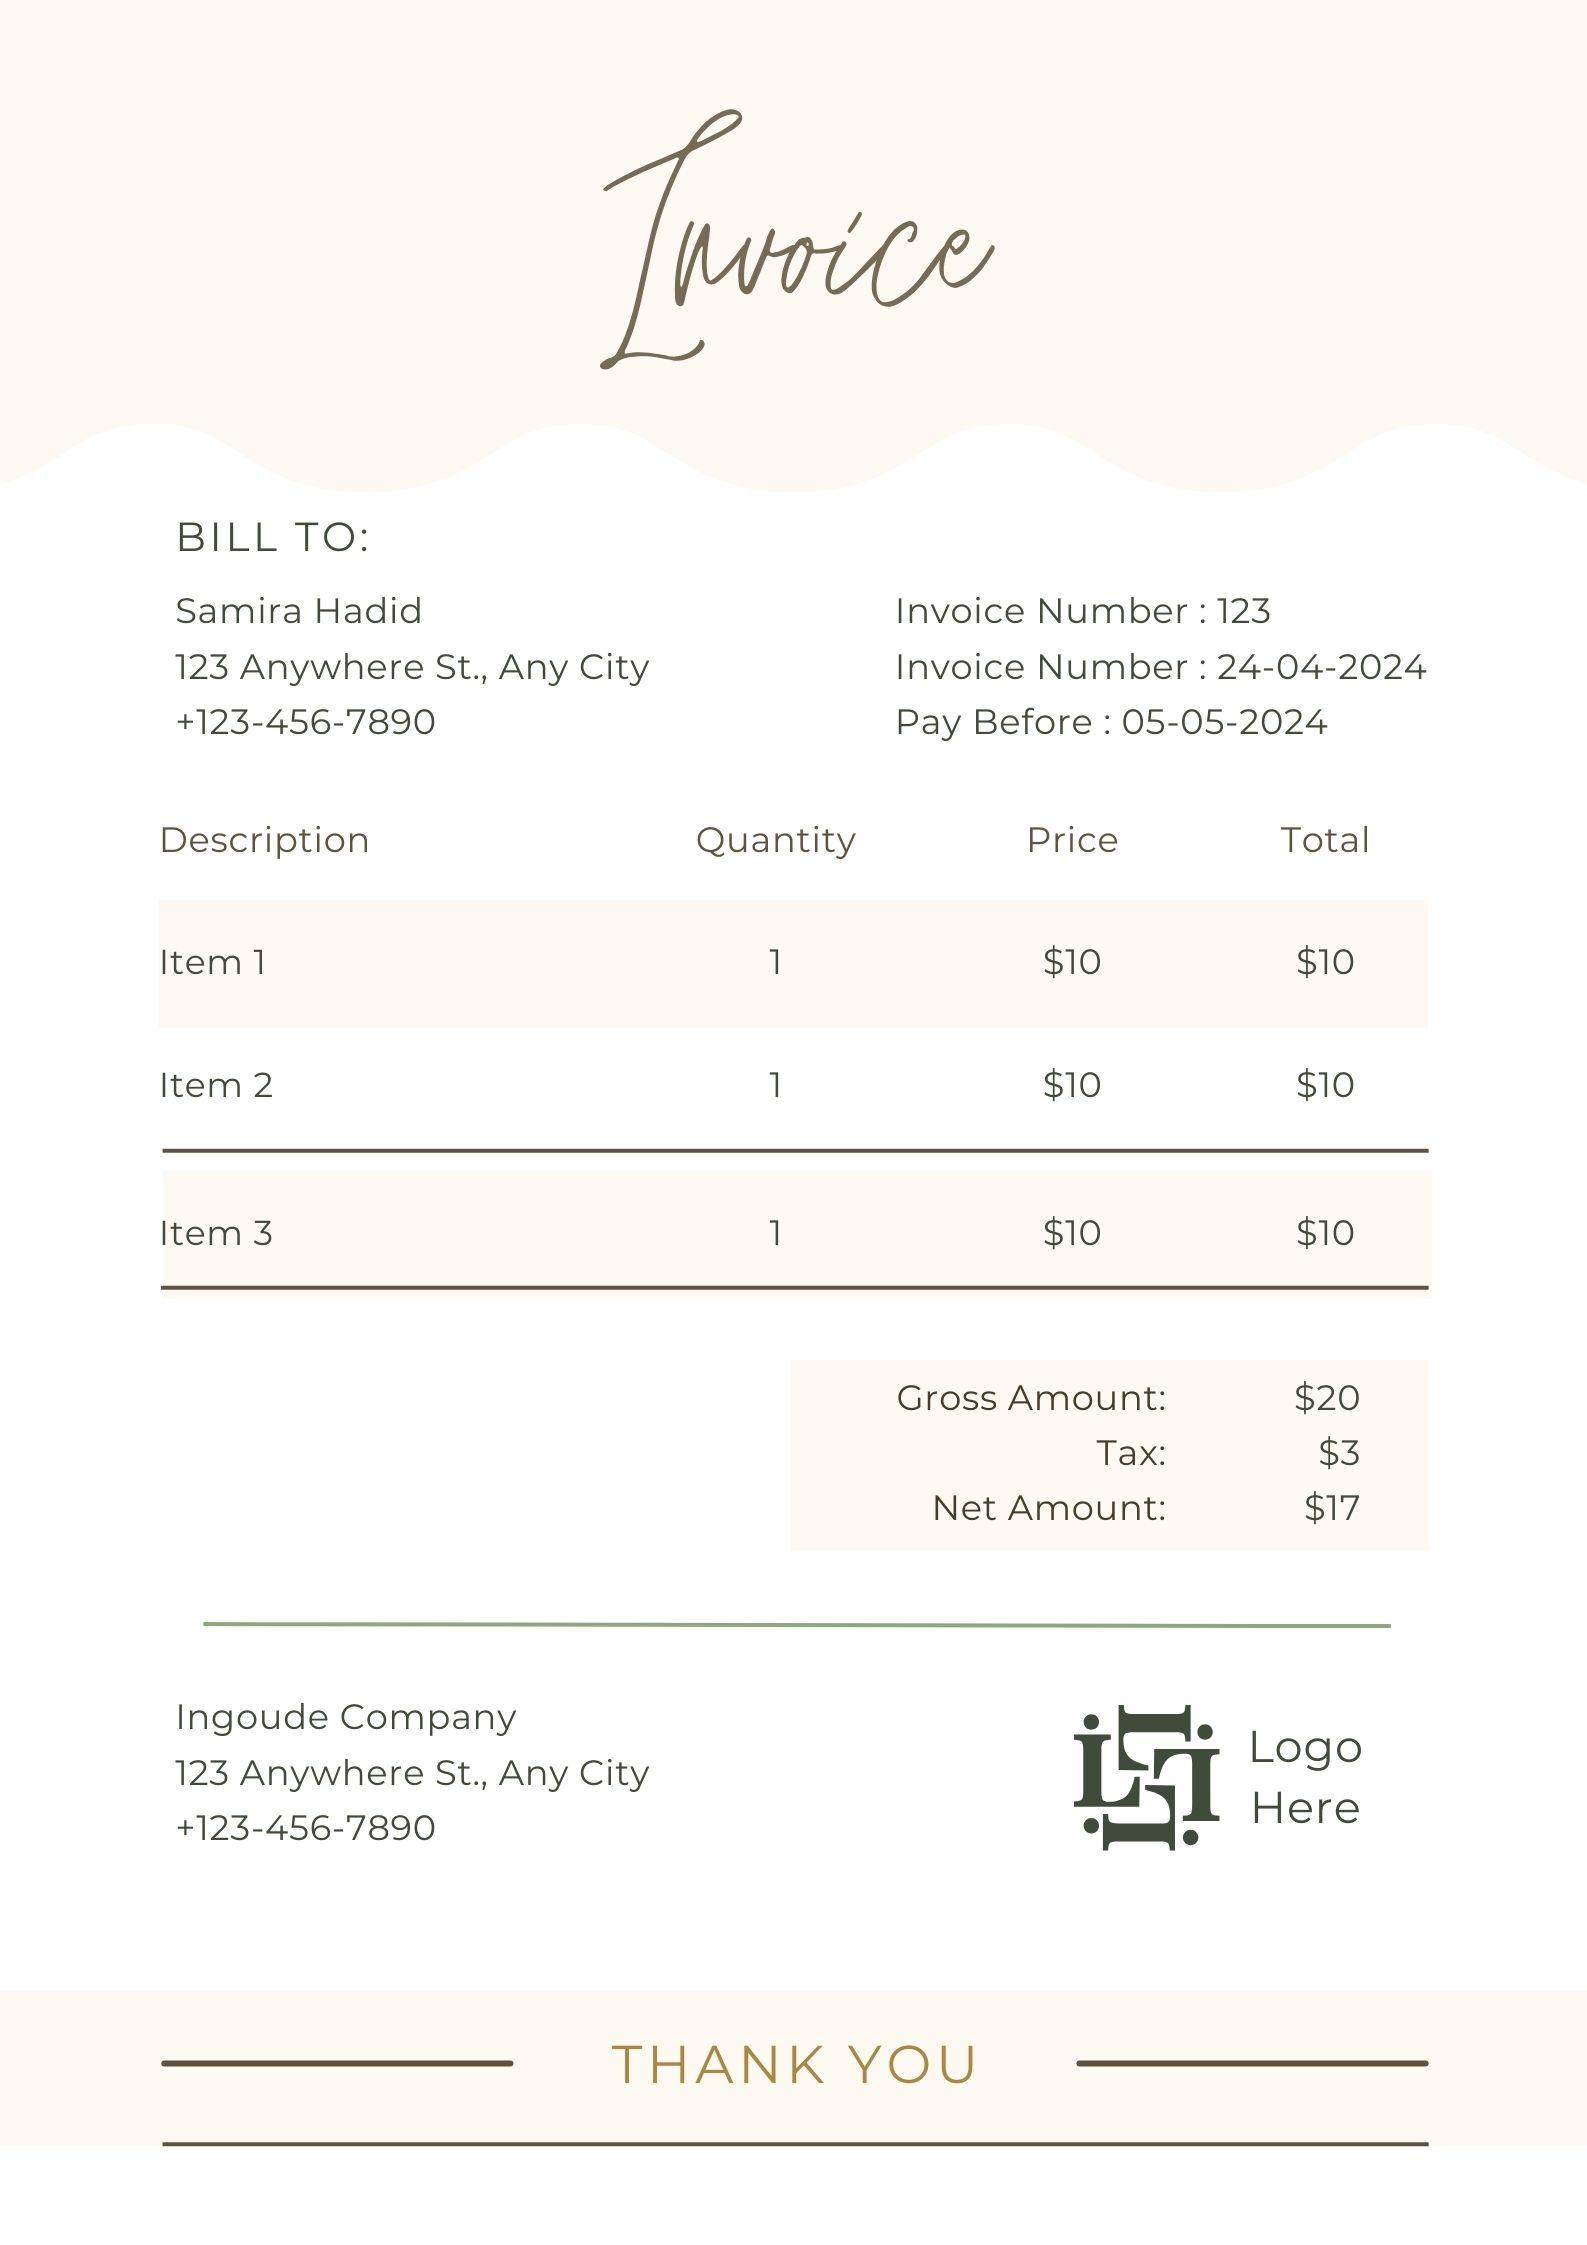ROI: (143, 797, 1434, 1307), (153, 507, 690, 757), (783, 1354, 1436, 1546), (167, 1680, 677, 1893), (879, 577, 1439, 770)
